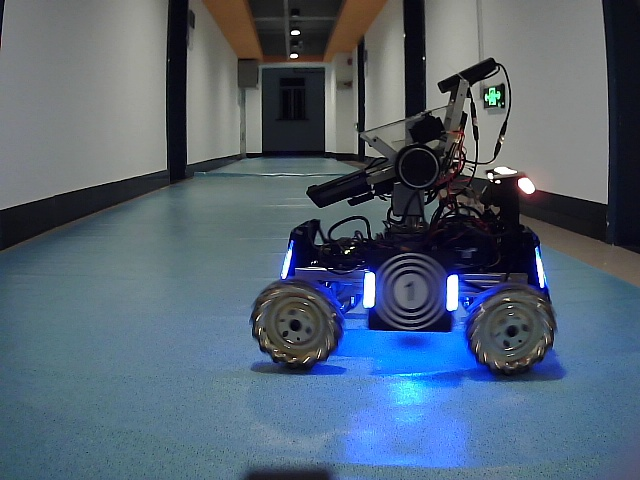lamp: (532, 247, 549, 291), (360, 270, 377, 304), (279, 242, 290, 282), (447, 273, 458, 310)
pair: (364, 270, 459, 311)
